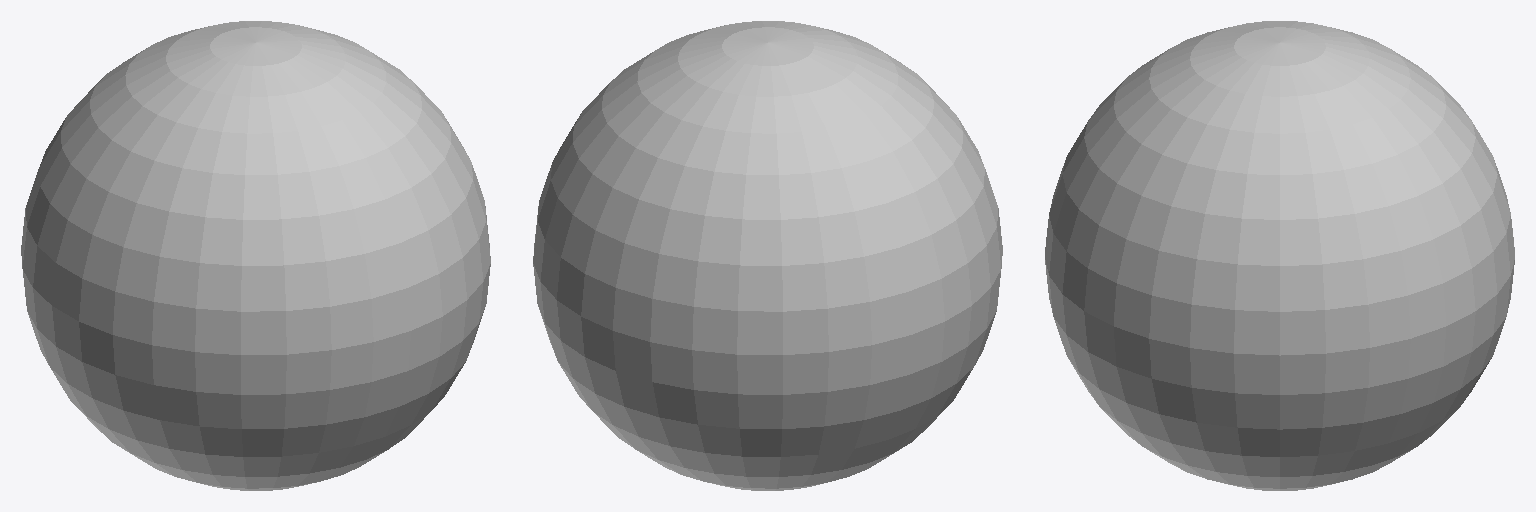
Rendered from simplesphere.obj.
3 renders of one model, left to right at view 1: azimuth 30°, elevation 25°; view 2: azimuth 150°, elevation 25°; view 3: azimuth 270°, elevation 25°, orthographic.
Parts seen in each view (by area): view 1: Sphere; view 2: Sphere; view 3: Sphere.
Boxes of the visible parts, <box> form: Sphere: <box>21,21,490,490</box>; Sphere: <box>533,21,1002,490</box>; Sphere: <box>1045,21,1514,490</box>.
Size of the model in its own units: 2 by 2 by 2.